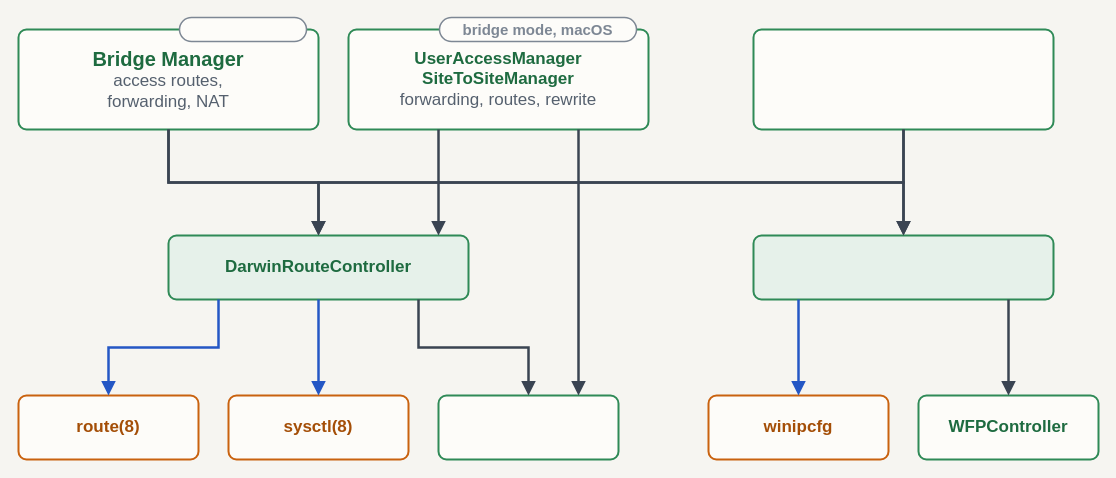
Some shapes in this 1116 by 478 pixel diagram are drawn without their labels. The shapes that lost their labels are listed below. From the top down, each one's box as (x1, y1, x2, y2) in pixels, then its label:
(178, 16, 307, 42): bridge mode
(752, 28, 1054, 130): wireguard.Manager peer routes on every node, through utunN on macOS
(752, 234, 1054, 300): WindowsRouteController
(437, 394, 619, 460): PFController
